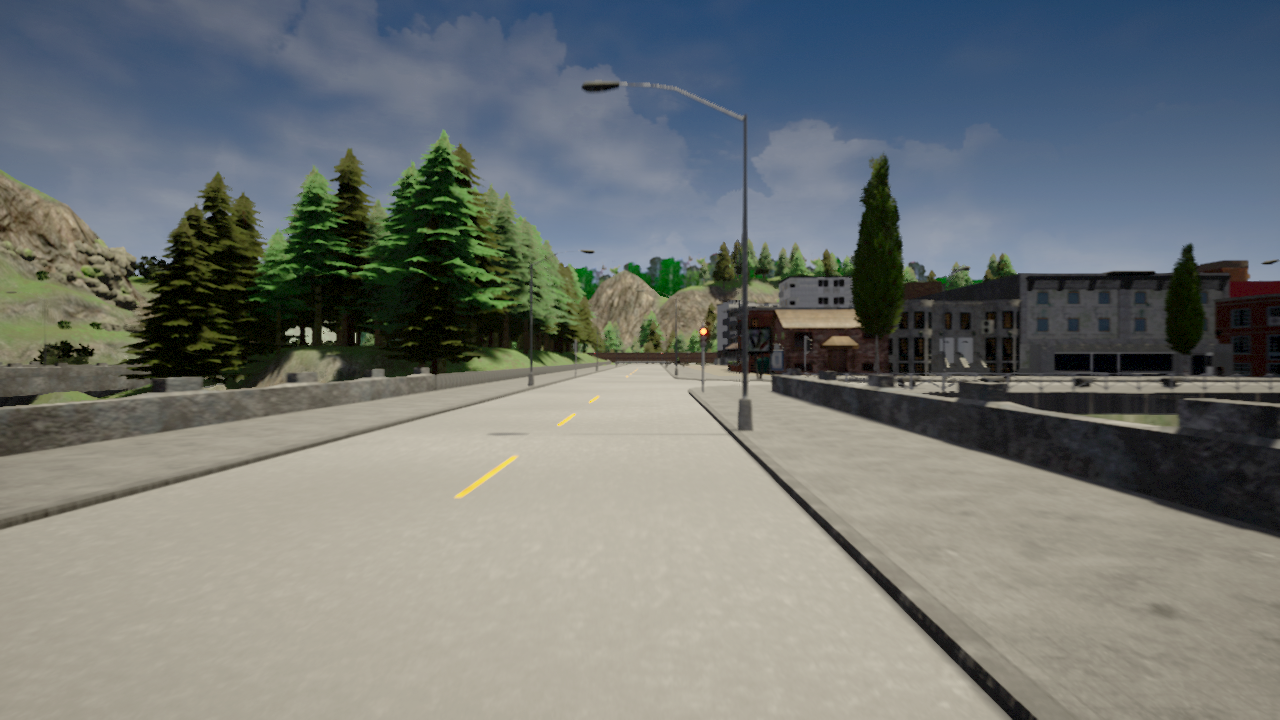red: (699, 326, 709, 347)
